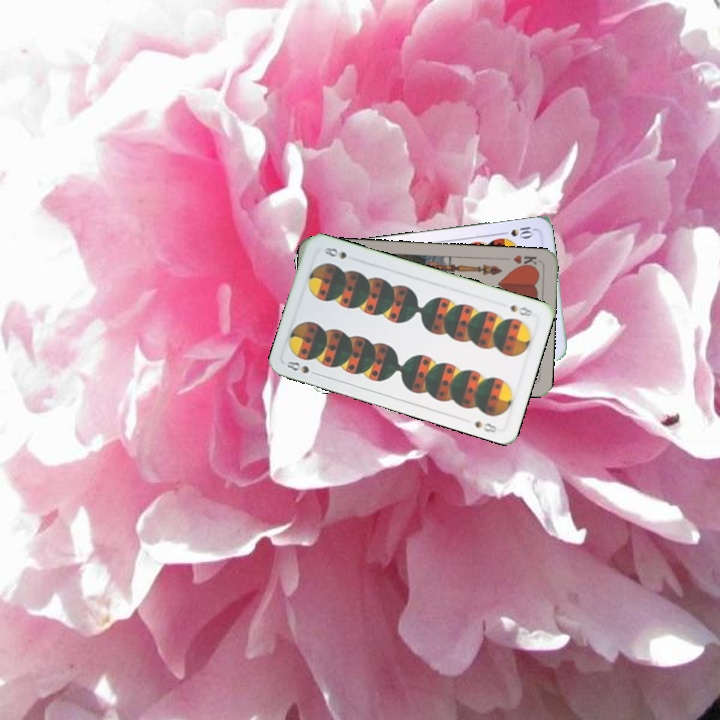HK: (509, 251, 542, 271)
S10: (496, 223, 536, 240)
S8: (282, 357, 322, 378), (506, 301, 535, 319)
